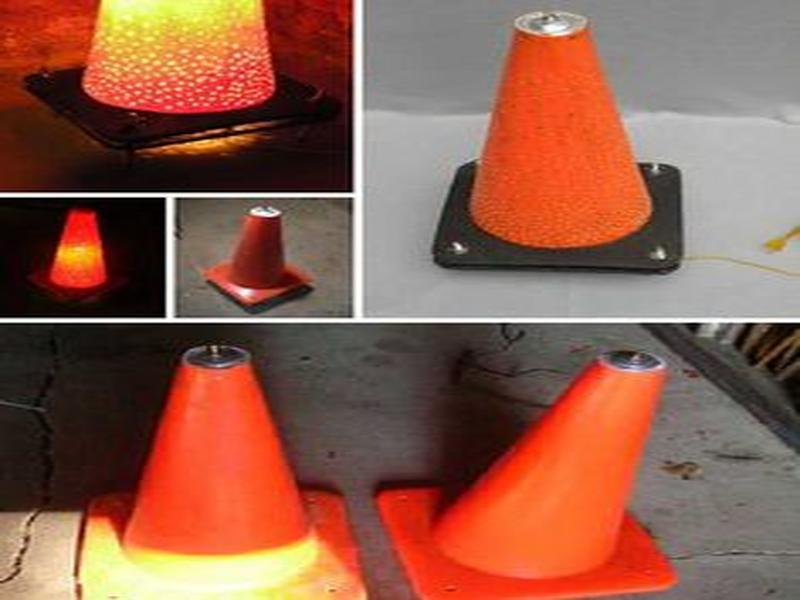Cone1: (432, 11, 683, 277), (201, 203, 316, 311)
